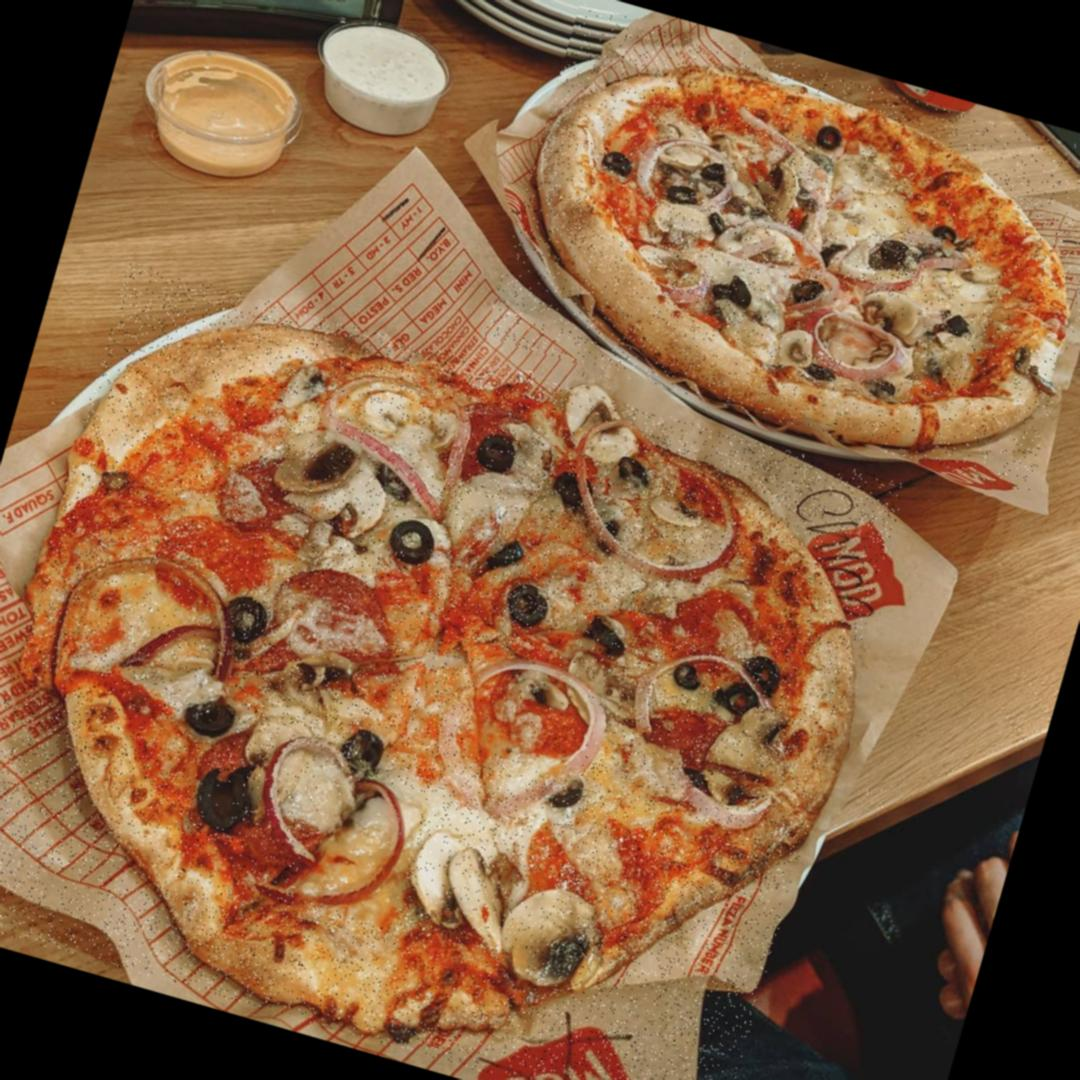Mushroom: (392, 841, 600, 1010), (270, 397, 375, 508), (722, 204, 810, 278), (552, 402, 644, 470), (640, 188, 725, 259), (847, 279, 926, 352), (662, 127, 724, 184), (648, 481, 700, 532)
Olives: (176, 678, 246, 746), (187, 764, 254, 833), (733, 641, 796, 700), (460, 428, 526, 484), (574, 605, 636, 657), (384, 505, 440, 560), (703, 273, 755, 330), (301, 434, 356, 487), (476, 528, 528, 579), (583, 506, 630, 558), (913, 213, 971, 252), (542, 769, 587, 818), (505, 583, 552, 629), (349, 724, 394, 772), (590, 141, 636, 187), (546, 469, 595, 512), (712, 681, 761, 724), (796, 352, 845, 395), (870, 230, 916, 272), (666, 653, 708, 698), (935, 302, 978, 344), (789, 266, 830, 309), (859, 374, 905, 411), (812, 121, 850, 157), (620, 461, 644, 488)
Onion: (292, 766, 426, 926), (103, 574, 249, 704), (461, 644, 624, 760), (246, 726, 347, 868), (617, 632, 772, 724), (316, 408, 450, 506), (800, 294, 921, 398), (675, 775, 770, 839), (838, 254, 922, 303), (657, 264, 709, 302)
Pepperoni: (272, 555, 407, 690), (657, 564, 781, 690), (464, 670, 600, 778), (590, 591, 715, 705), (152, 503, 272, 609), (628, 696, 740, 791), (436, 392, 537, 484)
Pizza: (0, 261, 906, 1080), (484, 3, 1080, 494)
